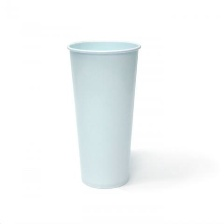paper_cup: (61, 36, 145, 193)
